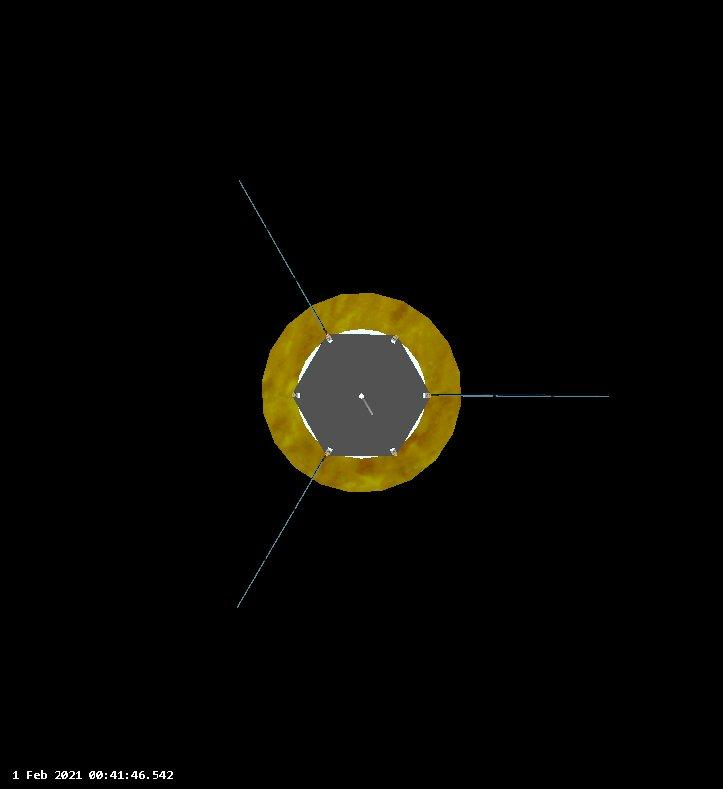body: (294, 330, 430, 461)
solar: (232, 439, 336, 616), (236, 177, 334, 343), (419, 390, 614, 405)
thruster: (260, 290, 465, 500)
